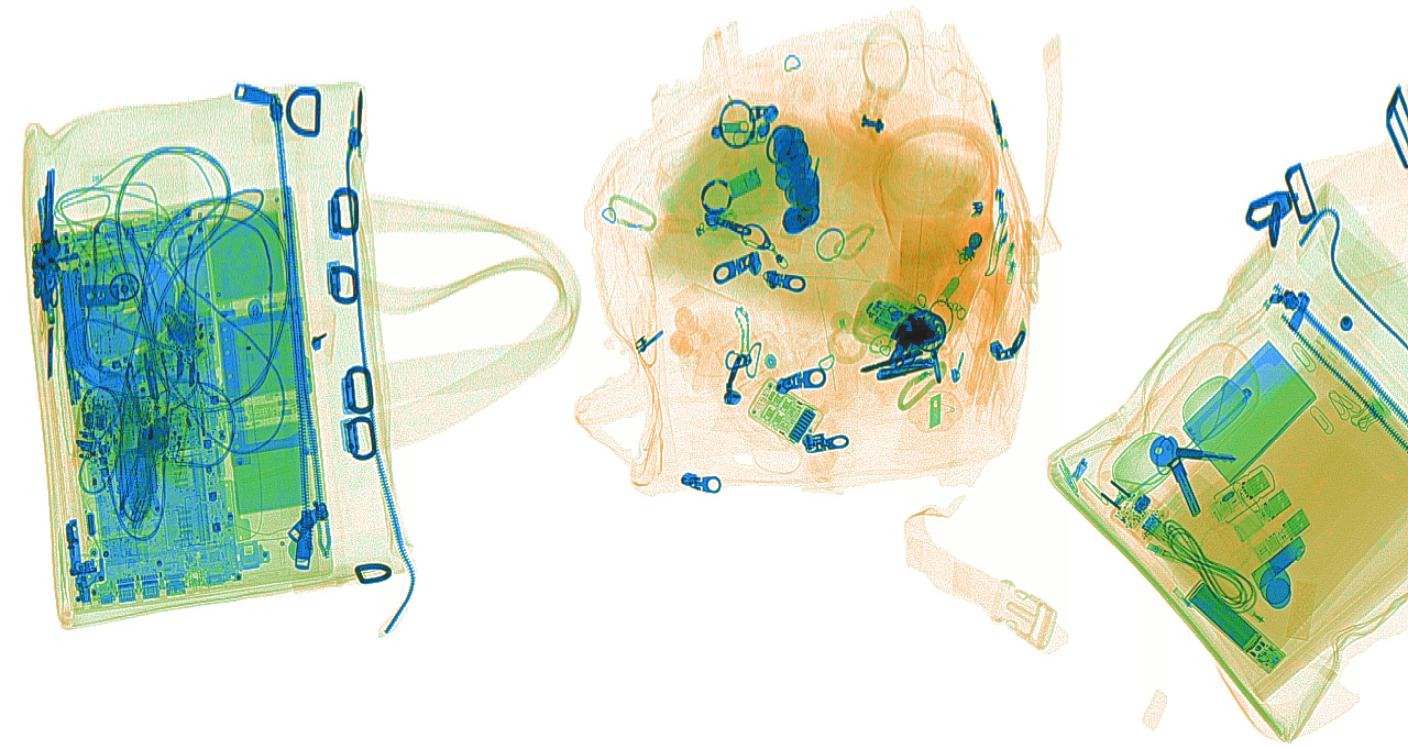USBFlashDisk: (1207, 470, 1312, 564)
battery: (1187, 581, 1289, 675)
